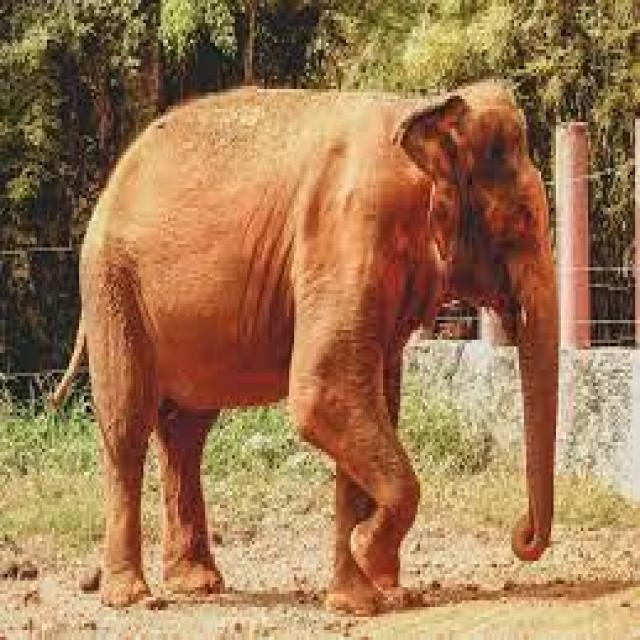Elephant: (76, 82, 558, 607)
